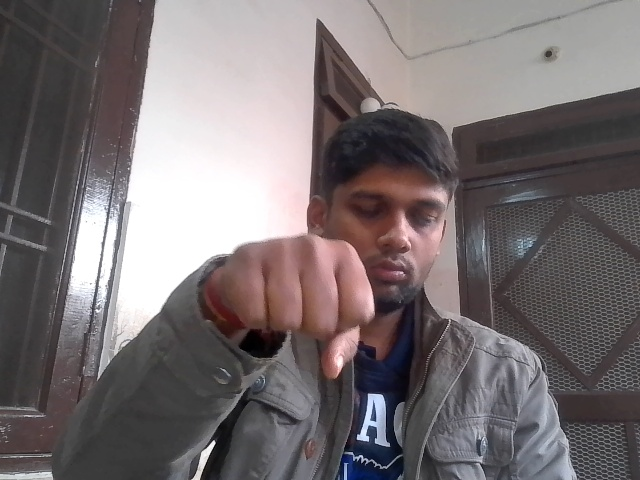Yes: (214, 219, 383, 395)
